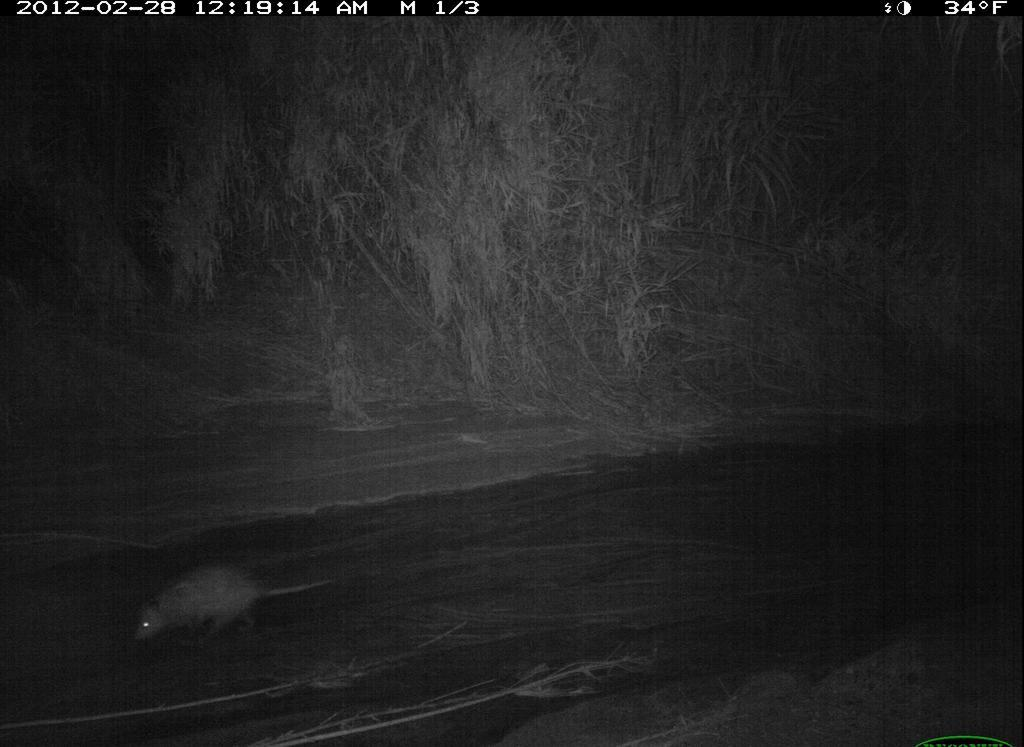opossum: (93, 556, 355, 667)
